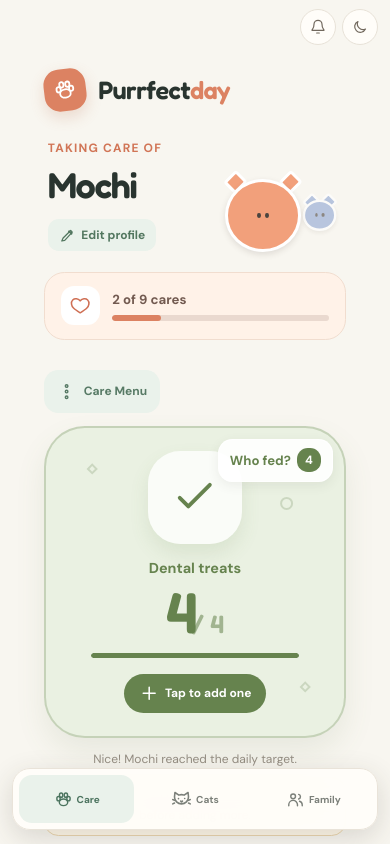
Test case: tracking and family navigation › warns when food goals are met and play becomes excessive
The width and height of the screenshot is (390, 844).
expect the message reads "You’ve reached Mochi’s treats goal. Check before adding more.": met, box [79,789,311,823]
What coordinates should you click on to do the following:
click the button "Care Menu"
I would click on:
 (102, 391)
Its box is [44,370,160,413].
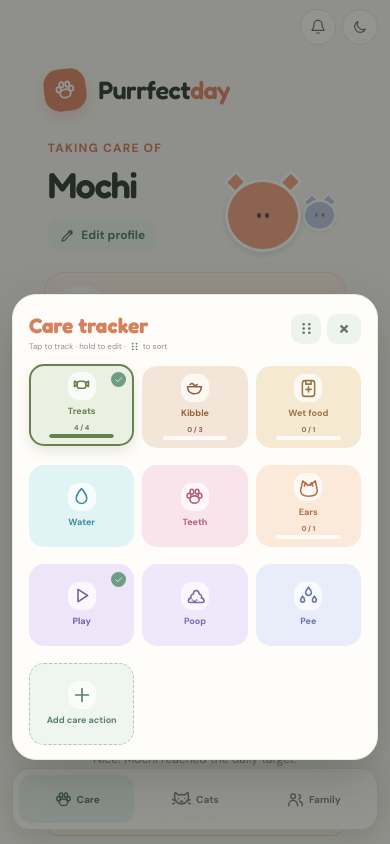
What coordinates should you click on to do the following:
click the button "Play"
I would click on:
 (82, 605)
Its box is [29,564,134,646].
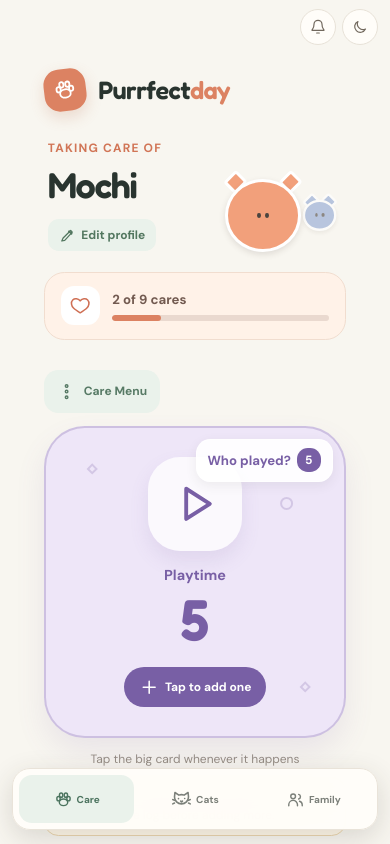
expect the message shows "lot of play sessions": met, box [71,789,319,823]
